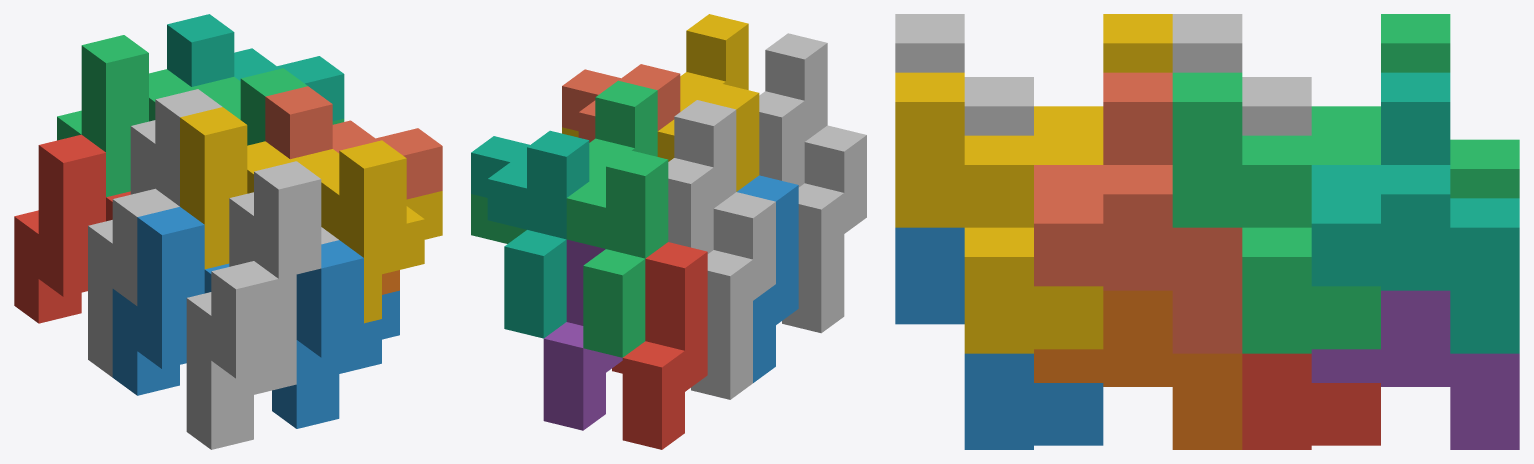
The model's file is tiling.obj.
3 views of the same model, side by side, from view 1: azimuth 30°, elevation 25°; view 2: azimuth 150°, elevation 25°; view 3: azimuth 270°, elevation 25° (orthographic). The views are drawn at different scales.
Visible parts, largest first — view 1: copy_2_domain_2, copy_1_domain_1, copy_1_domain_2, copy_2_domain_6, copy_2_domain_8, copy_1_domain_3, copy_2_domain_4, copy_1_domain_4, copy_1_domain_8, copy_2_domain_1, copy_1_domain_7, copy_2_domain_3 (+1 smaller); view 2: copy_1_domain_7, copy_1_domain_3, copy_1_domain_1, copy_2_domain_2, copy_2_domain_1, copy_2_domain_4, copy_2_domain_3, copy_1_domain_5, copy_2_domain_7, copy_1_domain_2, copy_2_domain_8, copy_1_domain_8 (+1 smaller); view 3: copy_1_domain_7, copy_1_domain_8, copy_2_domain_7, copy_2_domain_8, copy_2_domain_6, copy_1_domain_6, copy_1_domain_5, copy_1_domain_3, copy_2_domain_5, copy_2_domain_3, copy_1_domain_4, copy_2_domain_4.
Part boxes in pixels (bbox=[...]): copy_2_domain_2: bbox=[186, 261, 296, 449]; copy_1_domain_1: bbox=[14, 134, 130, 323]; copy_1_domain_2: bbox=[112, 207, 229, 395]; copy_2_domain_6: bbox=[272, 240, 399, 428]; copy_2_domain_8: bbox=[318, 140, 442, 323]; copy_1_domain_3: bbox=[57, 35, 240, 197]; copy_2_domain_4: bbox=[229, 161, 338, 343]; copy_1_domain_4: bbox=[180, 107, 339, 269]; copy_1_domain_8: bbox=[265, 86, 442, 199]; copy_2_domain_1: bbox=[88, 188, 179, 377]; copy_1_domain_7: bbox=[167, 14, 344, 121]; copy_2_domain_3: bbox=[130, 89, 222, 206]; copy_1_domain_7: bbox=[471, 130, 589, 338]; copy_1_domain_3: bbox=[566, 150, 668, 357]; copy_1_domain_1: bbox=[622, 242, 707, 449]; copy_2_domain_2: bbox=[782, 125, 866, 333]; copy_2_domain_1: bbox=[691, 192, 775, 399]; copy_2_domain_4: bbox=[759, 33, 827, 187]; copy_2_domain_3: bbox=[668, 100, 736, 253]; copy_1_domain_5: bbox=[543, 239, 622, 430]; copy_2_domain_7: bbox=[471, 80, 657, 243]; copy_1_domain_2: bbox=[737, 175, 798, 382]; copy_2_domain_8: bbox=[562, 14, 748, 137]; copy_1_domain_8: bbox=[562, 64, 680, 142]; copy_1_domain_7: bbox=[1311, 72, 1519, 353]; copy_1_domain_8: bbox=[1034, 72, 1242, 353]; copy_2_domain_7: bbox=[1172, 72, 1380, 353]; copy_2_domain_8: bbox=[895, 72, 1103, 353]; copy_2_domain_6: bbox=[895, 227, 1103, 449]; copy_1_domain_6: bbox=[1034, 290, 1242, 449]; copy_1_domain_5: bbox=[1311, 290, 1519, 449]; copy_1_domain_3: bbox=[1311, 14, 1519, 198]; copy_2_domain_5: bbox=[1242, 353, 1380, 449]; copy_2_domain_3: bbox=[1172, 14, 1311, 135]; copy_1_domain_4: bbox=[1034, 14, 1172, 164]; copy_2_domain_4: bbox=[895, 14, 1033, 135].
Bounding box in the file's own units: 6 × 6 × 9.
